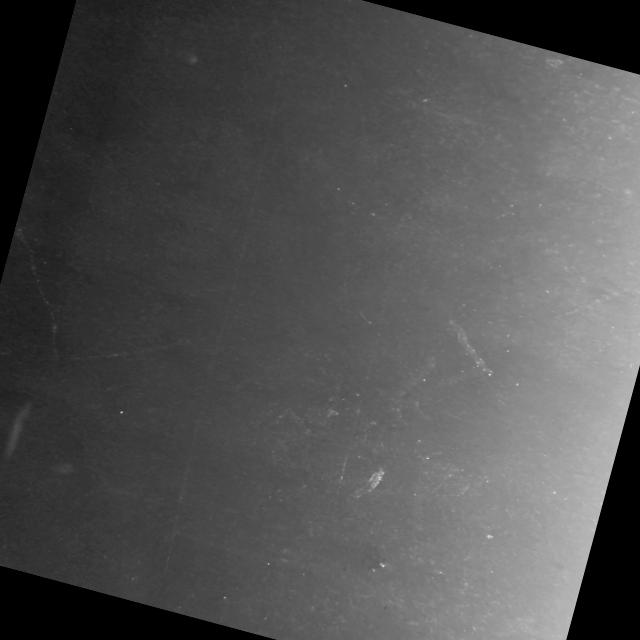beta: (0, 195, 102, 360), (42, 301, 196, 396), (555, 252, 640, 337), (402, 98, 508, 136), (451, 544, 478, 597)
